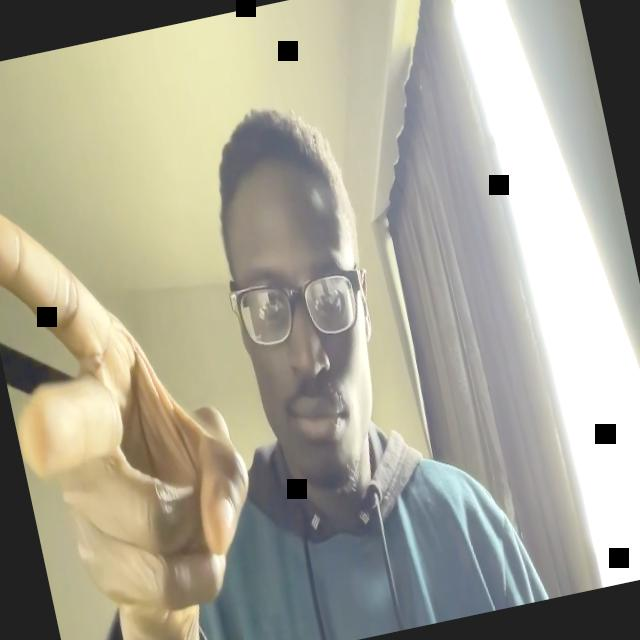Scissors: (0, 147, 279, 640)
